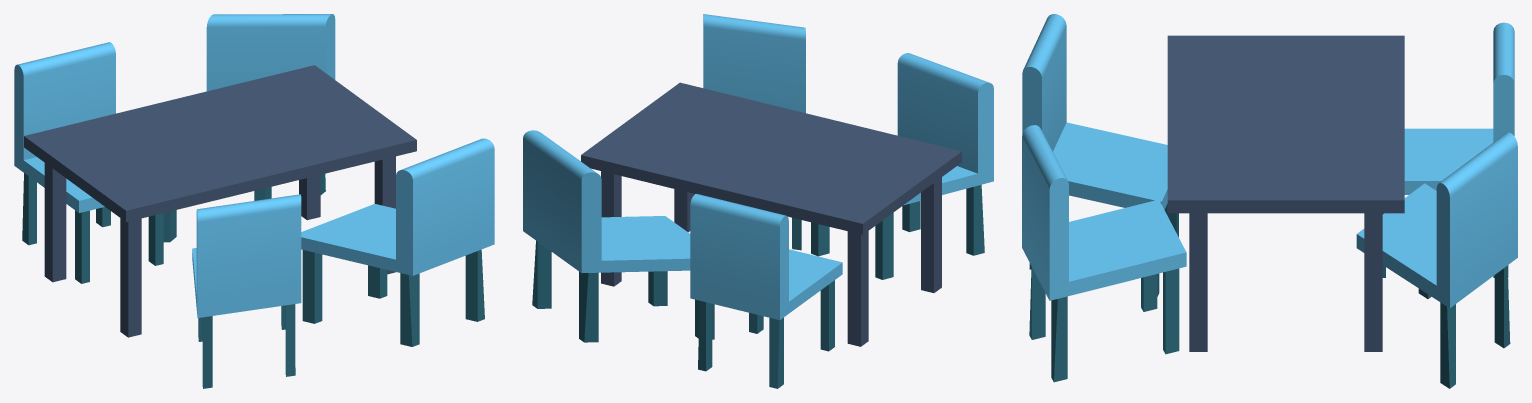
Rendered from Table and chair.fbx.
The picture shows the model from 3 angles, left to right: view 1: azimuth 30°, elevation 25°; view 2: azimuth 150°, elevation 25°; view 3: azimuth 270°, elevation 25°; orthographic projection. The views are drawn at different scales.
Parts seen in each view (by area): view 1: Cube.024, Cube.037, Cube.036, Cube.034, Cube.035; view 2: Cube.024, Cube.035, Cube.034, Cube.036, Cube.037; view 3: Cube.024, Cube.037, Cube.035, Cube.036, Cube.034.
Part boxes in pixels (x1,y1,x2,y2): Cube.024: [24, 65, 416, 337]; Cube.037: [301, 138, 494, 346]; Cube.036: [192, 194, 301, 388]; Cube.034: [14, 42, 163, 283]; Cube.035: [163, 14, 335, 242]; Cube.024: [581, 82, 961, 346]; Cube.035: [523, 130, 714, 342]; Cube.034: [690, 194, 842, 388]; Cube.036: [811, 53, 993, 279]; Cube.037: [703, 14, 805, 250]; Cube.024: [1167, 35, 1404, 351]; Cube.037: [1022, 125, 1186, 382]; Cube.035: [1356, 132, 1517, 388]; Cube.036: [1022, 14, 1178, 296]; Cube.034: [1382, 22, 1514, 277].
Bounding box in the file's own units: 121 × 62.35 × 136.
